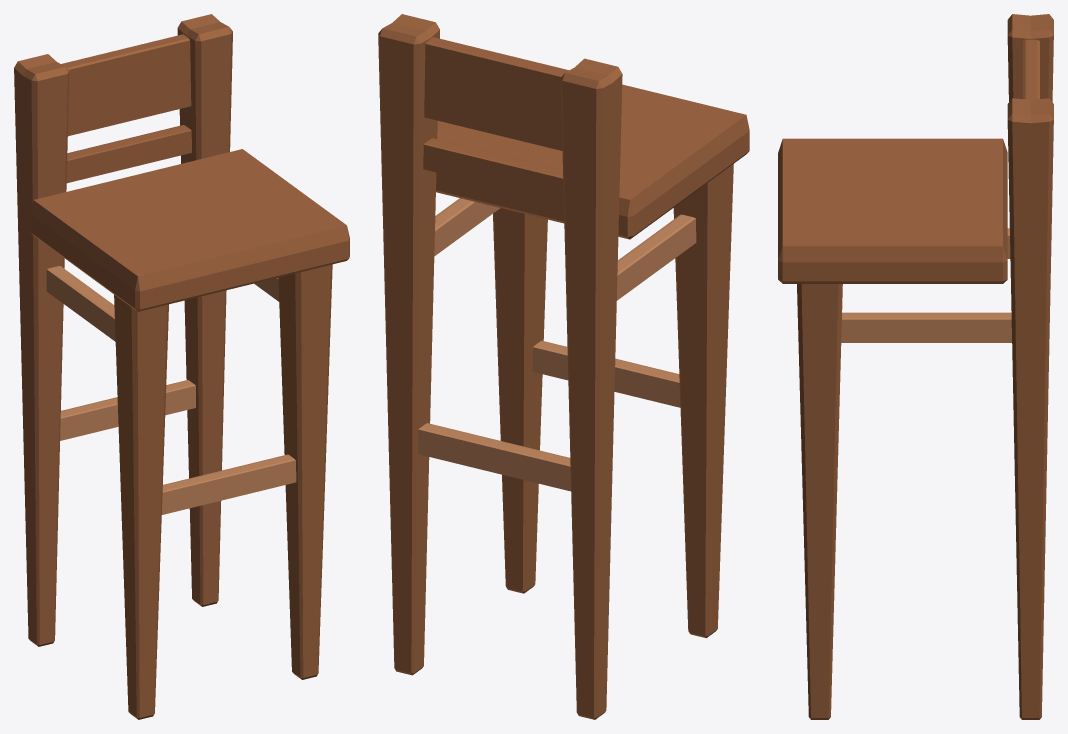
File: Chair B.glb
3 views of the same model, side by side, from view 1: azimuth 30°, elevation 25°; view 2: azimuth 150°, elevation 25°; view 3: azimuth 270°, elevation 25° (orthographic). The views are drawn at different scales.
Visible parts, largest first — view 1: Chair B; view 2: Chair B; view 3: Chair B.
Boxes of the visible parts, x1,y1,x2,y2 form: Chair B: (14, 14, 349, 719); Chair B: (378, 14, 749, 719); Chair B: (778, 14, 1053, 719).
Bounding box in the file's own units: 206 × 529 × 217.
